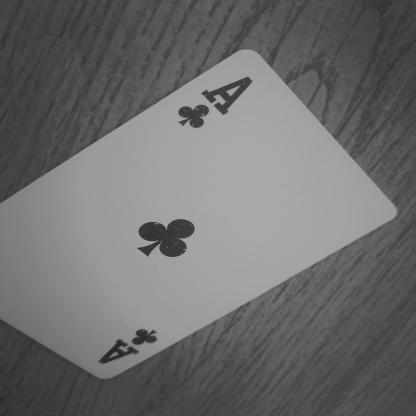AC: (171, 70, 266, 132), (97, 322, 177, 374)
